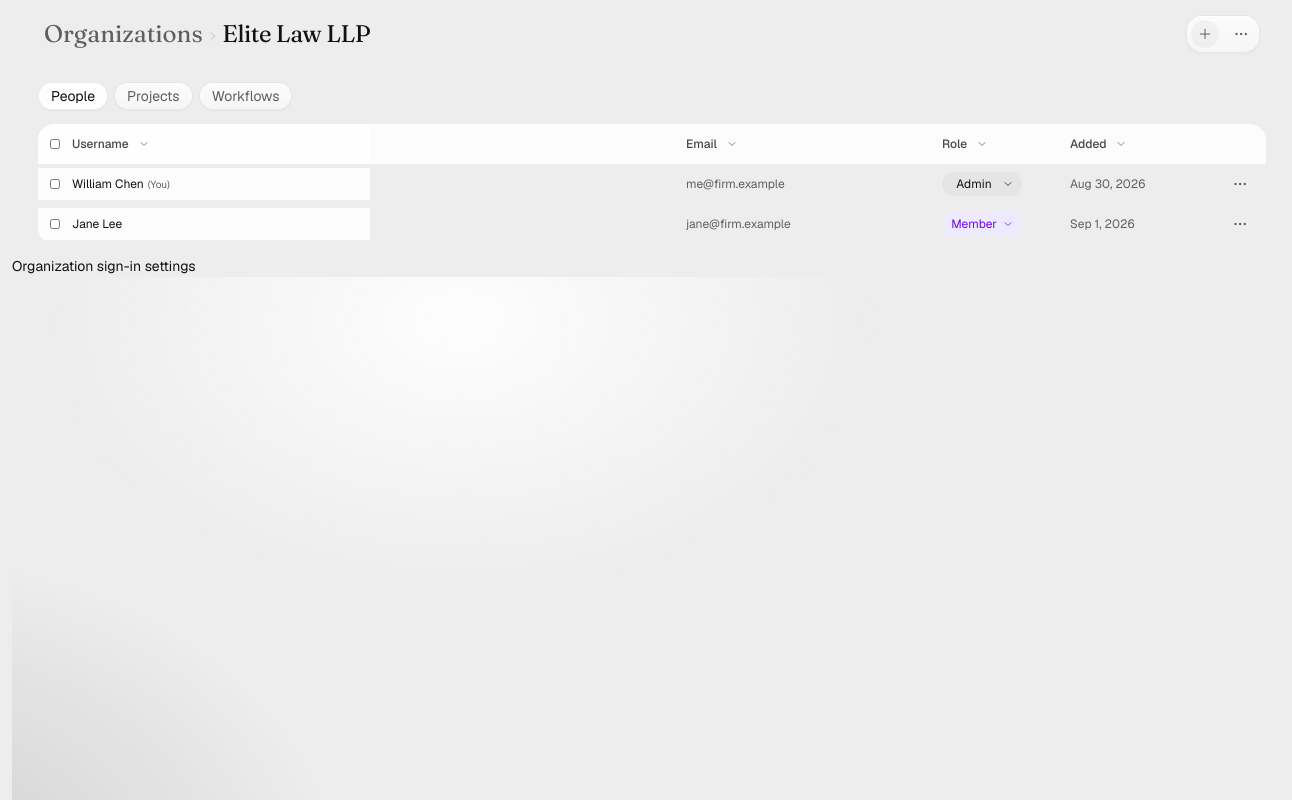
Test case: OrganizationWorkspace › matches the toolbar and right-click people menu for Jane Lee
Expected: the text "Jane Lee" is shown, [72,216,122,232]
Click the checkbox named "Select Jane Lee" at (55, 224), box [50,219,60,229]
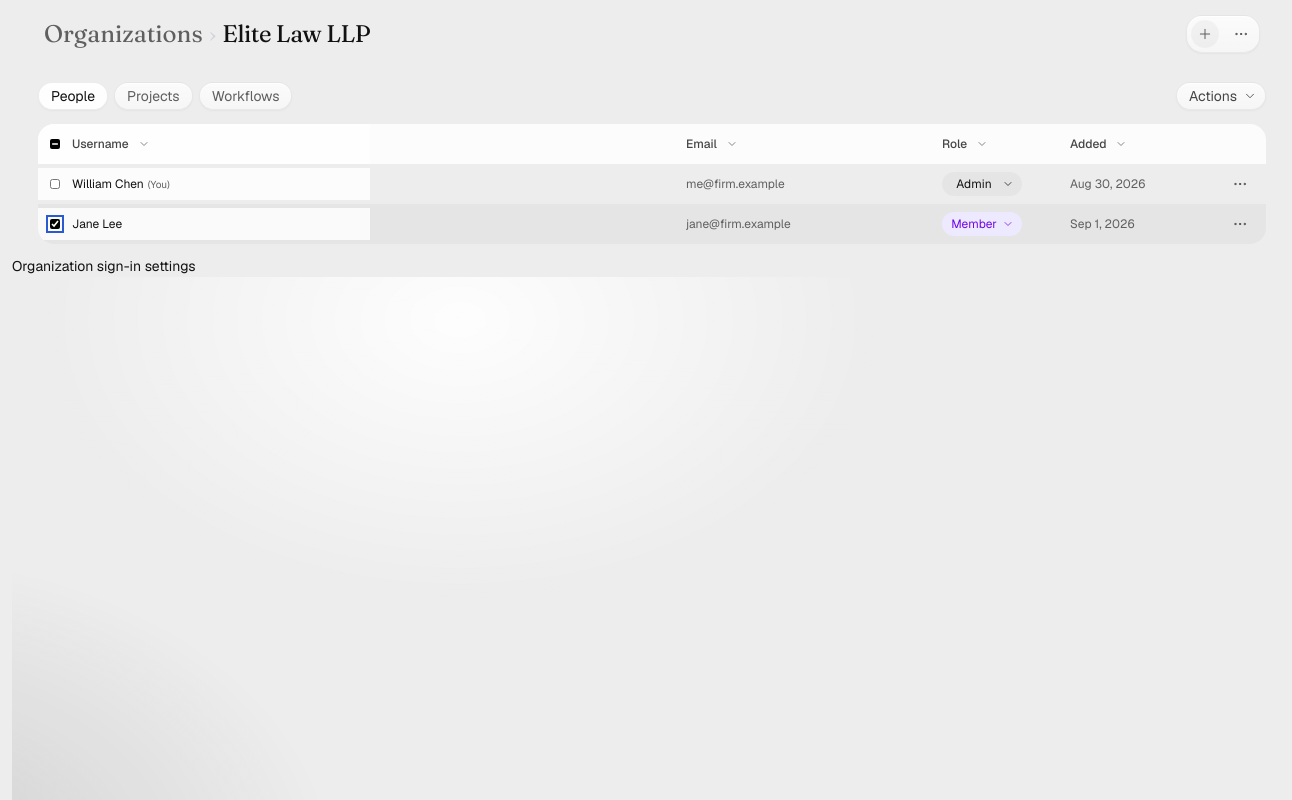
Click the button "Actions" at (1221, 96), box [1176,82,1266,110]
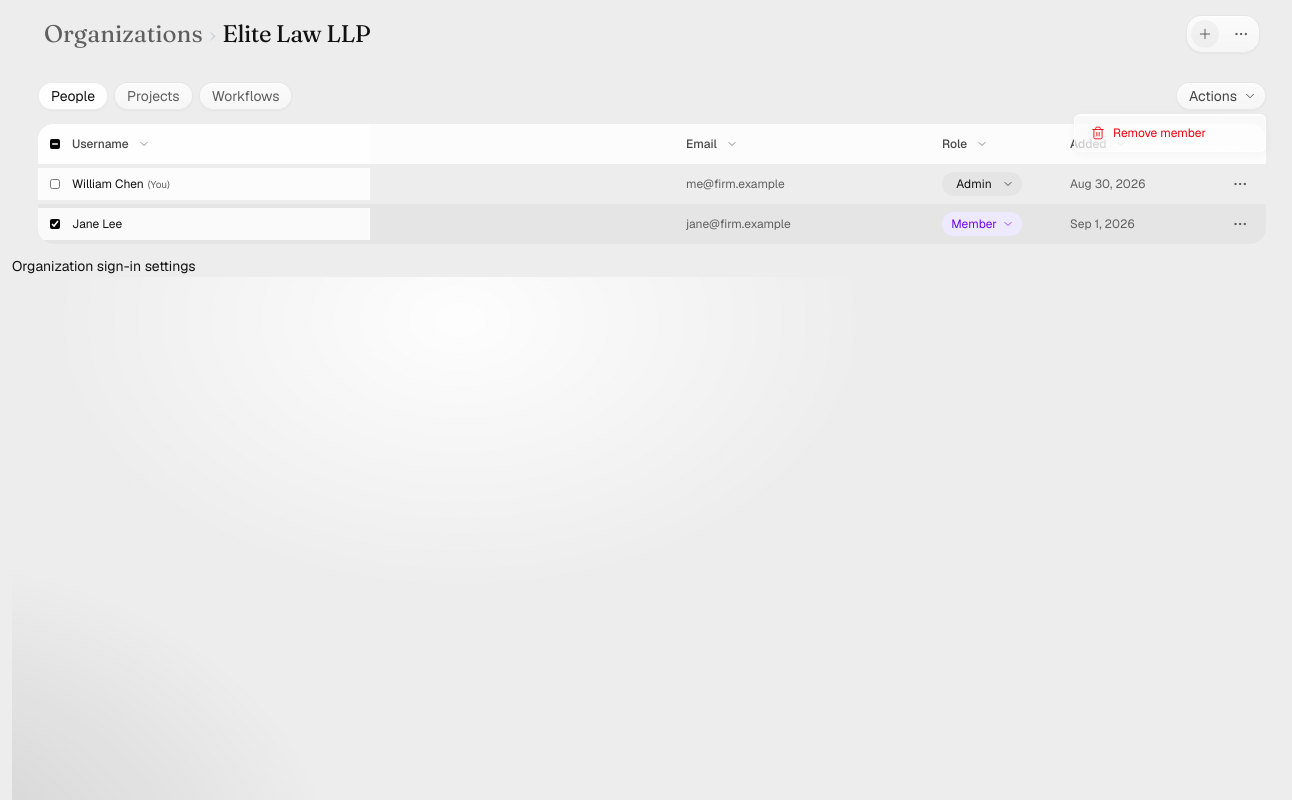
Now the menu items read "Remove member", in this order, box [1091,125,1206,141]
Press Escape
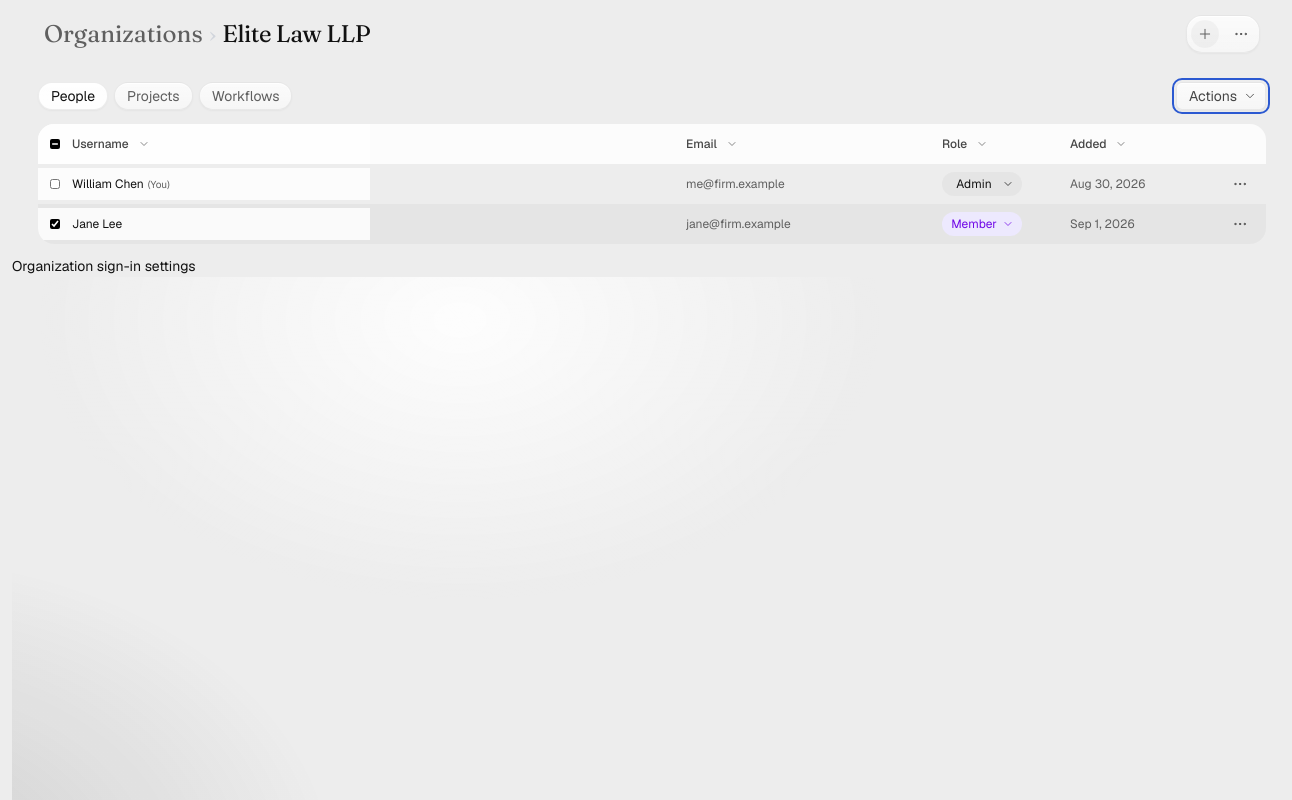
Right-click the text "Jane Lee" at (97, 224), box [72,216,122,232]
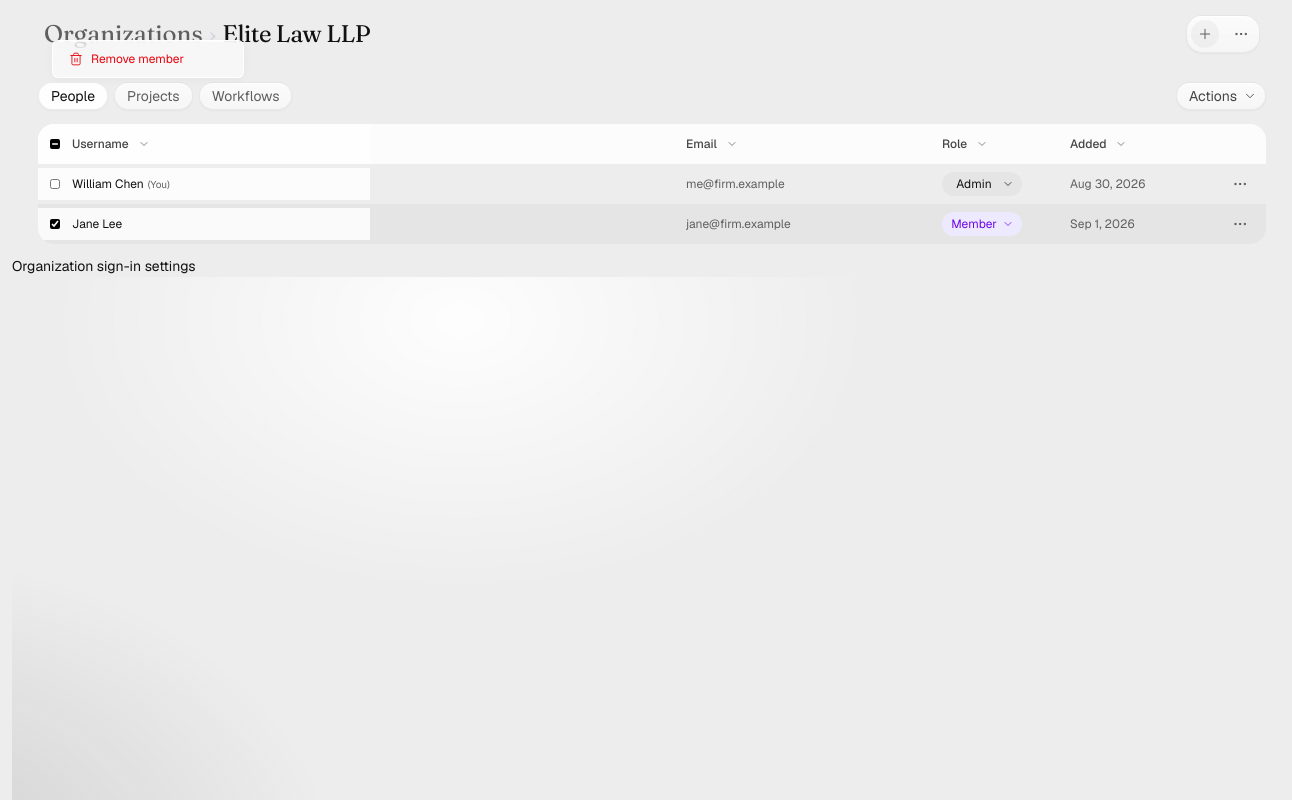
Now the menu items read "Remove member", in this order, box [69,51,184,67]
